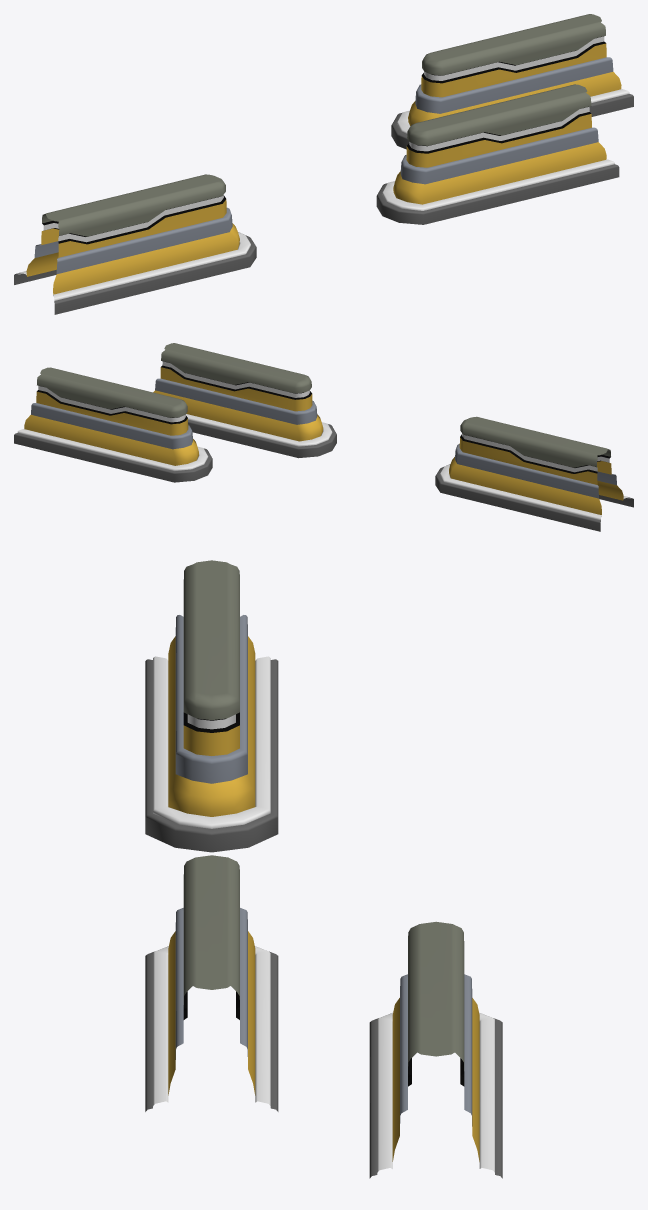
Rendered from Small_walls.fbx.
The picture shows the model from 3 angles, top to bottom: view 1: azimuth 30°, elevation 25°; view 2: azimuth 150°, elevation 25°; view 3: azimuth 270°, elevation 25°; orthographic projection. The views are drawn at different scales.
Parts seen in each view (by area): view 1: Small_wallv2_1 (×2), Small_wallv2_; view 2: Small_wallv2_1 (×2), Small_wallv2_; view 3: Small_wallv2_1 (×2), Small_wallv2_.
Part boxes in pixels (bbox=[...]): Small_wallv2_1 (×2): bbox=[376, 14, 633, 224]; Small_wallv2_: bbox=[14, 174, 256, 314]; Small_wallv2_1 (×2): bbox=[14, 343, 336, 482]; Small_wallv2_: bbox=[435, 416, 633, 531]; Small_wallv2_1 (×2): bbox=[145, 855, 502, 1178]; Small_wallv2_: bbox=[145, 560, 278, 852].
Bounding box in the file's own units: 317 × 37.08 × 92.45.
